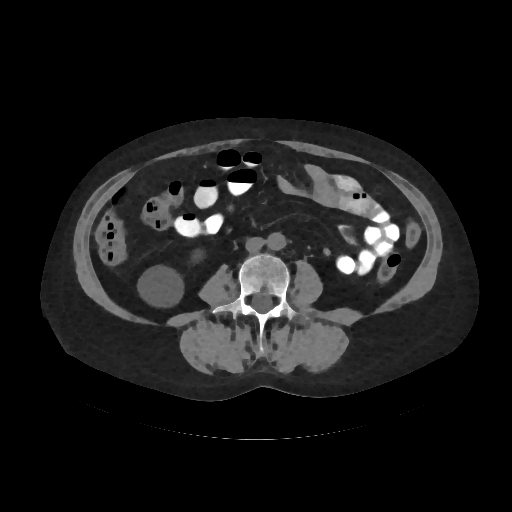Lesion: (134, 263, 187, 312)
